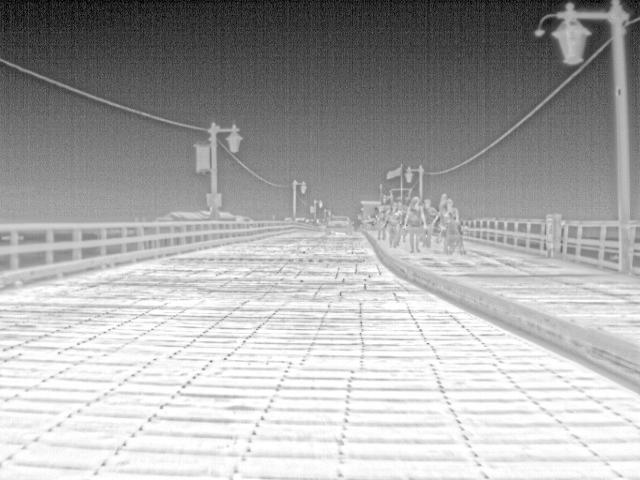car: (323, 215, 355, 235)
person: (402, 197, 429, 251), (438, 198, 462, 237), (388, 200, 404, 248), (420, 197, 437, 232), (374, 204, 389, 241)
